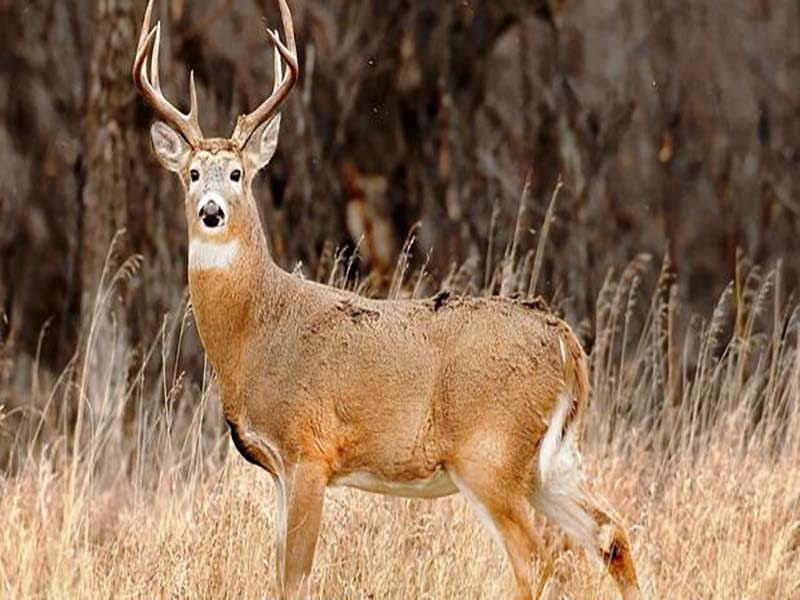cervo: (132, 3, 642, 600)
